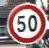Speed Limit -50-: (0, 0, 48, 47)
